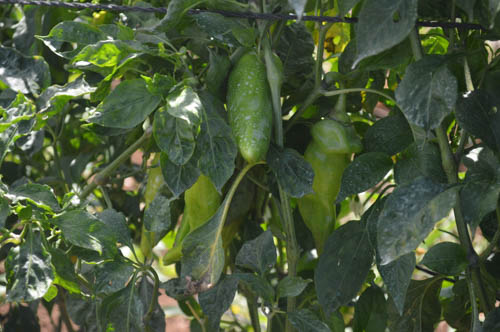ChiliPepper: (294, 142, 342, 241), (231, 57, 272, 172), (133, 160, 170, 259), (184, 174, 218, 223)
